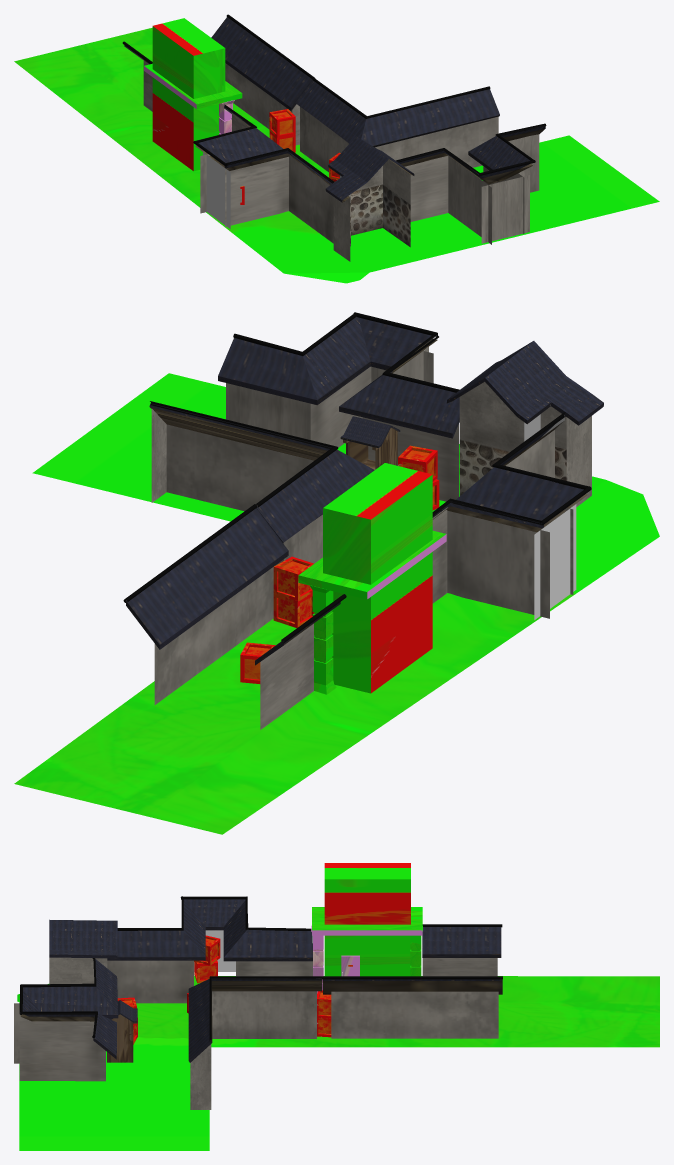
The model's file is Street.fbx.
The picture shows the model from 3 angles, top to bottom: view 1: azimuth 30°, elevation 25°; view 2: azimuth 150°, elevation 25°; view 3: azimuth 270°, elevation 25°; orthographic projection. The views are drawn at different scales.
Visible parts, largest first — view 1: Izakaya, Plane.005, Cube.170, Wall.003, Wall.004, Cube.147, box.002, Street_Roof_Edge.006, Street_Roof_Edge; view 2: Izakaya, Plane.005, Cube.170, Wall.004, Cube.147, Cube.145, Wall.003, Street_Roof_Edge.006, box.002, box.003, box.006, box.004 (+2 smaller); view 3: Izakaya, Plane.005, Cube.170, Wall.003, Cube.147, Street_Roof_Edge.007, Street_Roof_Edge.006, Cube.145, Cube.169, box.008, Wall.004.
Boxes of the visible parts, <box> form: Izakaya: <box>124,17,545,261</box>; Plane.005: <box>14,27,659,283</box>; Cube.170: <box>152,18,225,171</box>; Wall.003: <box>225,156,333,243</box>; Wall.004: <box>203,152,230,228</box>; Cube.147: <box>144,63,242,109</box>; box.002: <box>269,109,295,138</box>; Street_Roof_Edge.006: <box>312,78,490,118</box>; Street_Roof_Edge: <box>225,148,334,183</box>; Izakaya: <box>126,316,603,729</box>; Plane.005: <box>14,373,659,834</box>; Cube.170: <box>323,463,432,693</box>; Wall.004: <box>534,504,576,619</box>; Cube.147: <box>298,530,446,599</box>; Cube.145: <box>309,585,336,694</box>; Wall.003: <box>505,430,573,594</box>; Street_Roof_Edge.006: <box>150,401,338,507</box>; box.002: <box>273,556,313,601</box>; box.003: <box>273,593,314,627</box>; box.006: <box>398,445,437,481</box>; box.004: <box>240,642,275,683</box>; Izakaya: <box>14,899,502,1109</box>; Plane.005: <box>17,975,659,1150</box>; Cube.170: <box>324,863,410,976</box>; Wall.003: <box>107,960,193,1003</box>; Cube.147: <box>312,907,422,935</box>; Street_Roof_Edge.007: <box>322,976,502,979</box>; Street_Roof_Edge.006: <box>209,976,321,1040</box>; Cube.145: <box>410,926,422,976</box>; Cube.169: <box>311,925,323,993</box>; box.008: <box>194,935,220,965</box>; Wall.004: <box>194,930,235,971</box>.
Size of the model in its own units: 2059 by 671 by 3067.
